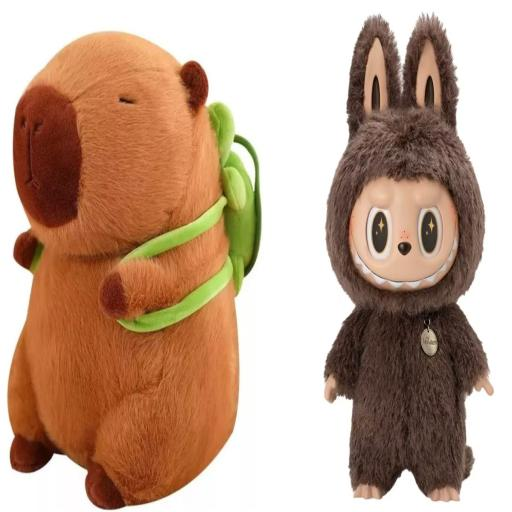capibara: (12, 33, 270, 508)
labubu: (326, 5, 500, 505)
